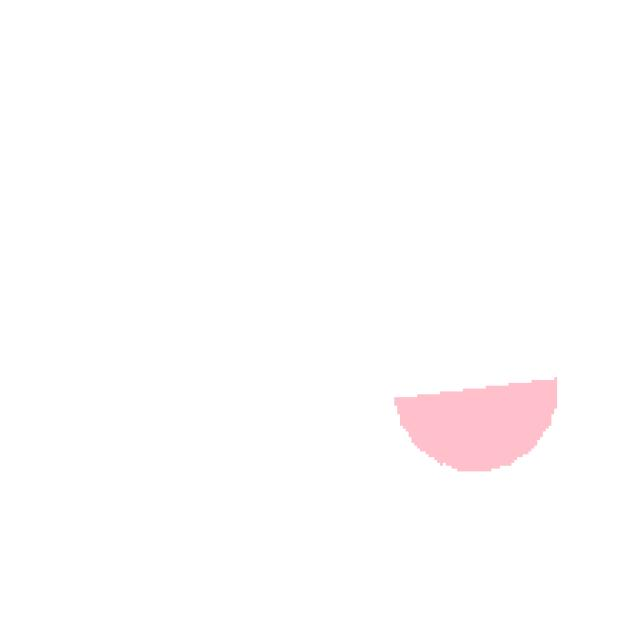Semicircle: (370, 361, 571, 506)
